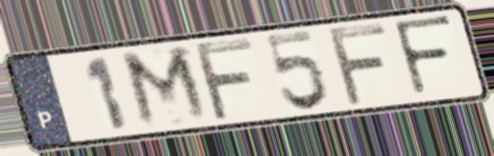1: (84, 54, 133, 131)
5: (263, 27, 332, 114)
F: (323, 21, 391, 109), (190, 36, 257, 125), (390, 13, 457, 99)
M: (117, 43, 217, 131)
